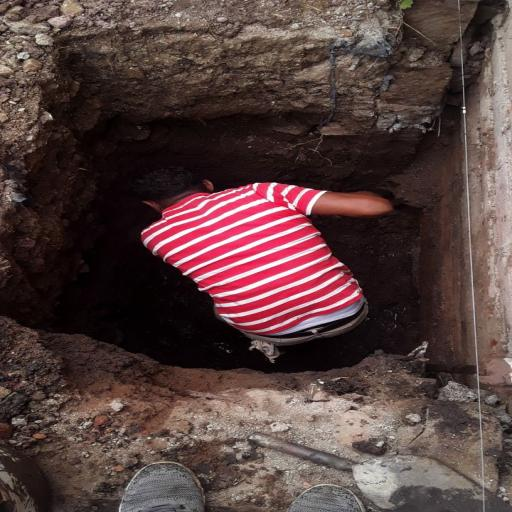entrance: (2, 50, 512, 394)
laptop: (133, 166, 393, 362)
